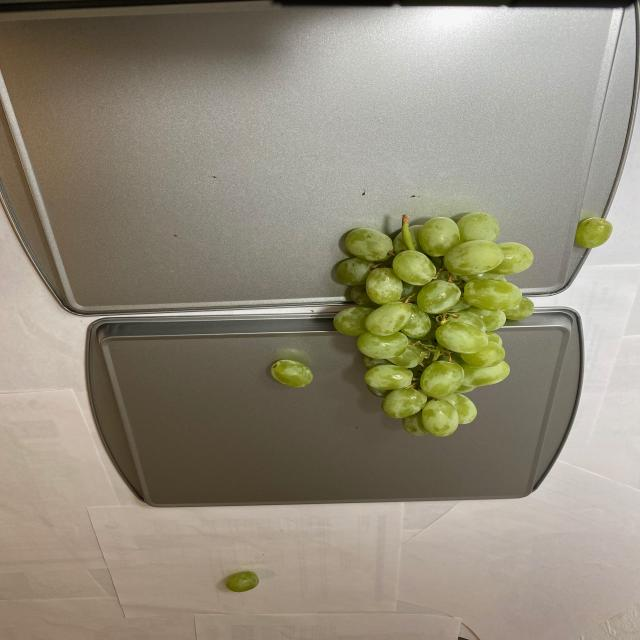grapes: (320, 205, 537, 437), (263, 355, 317, 386), (566, 218, 618, 249), (224, 572, 264, 594)
